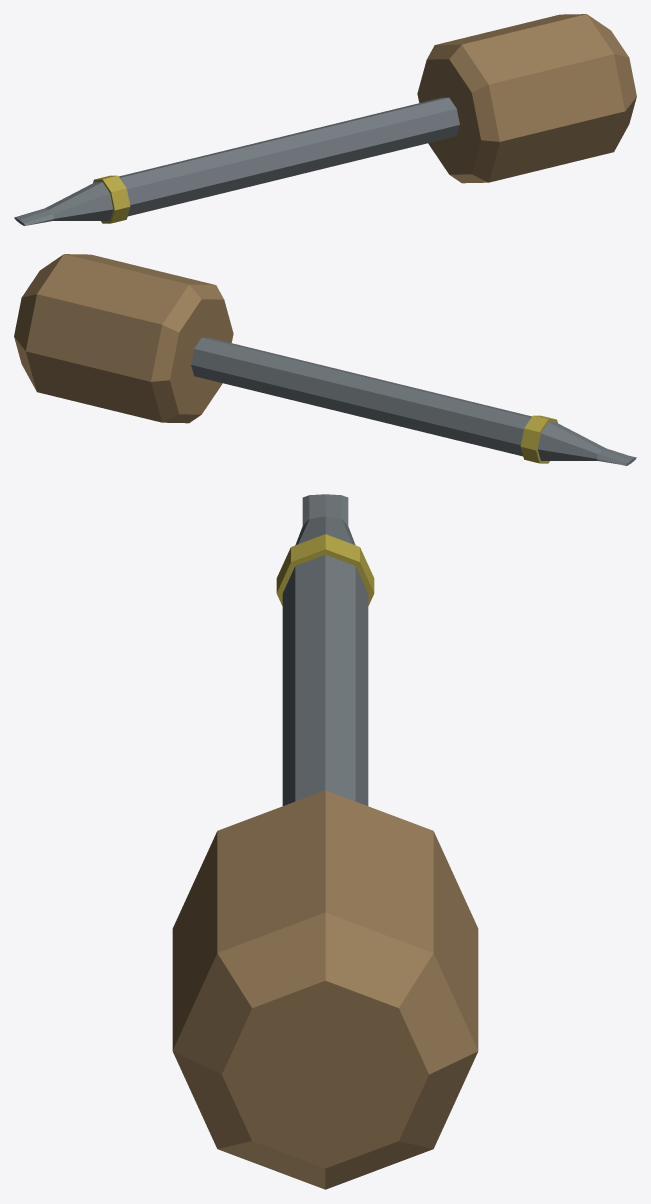
The model's file is ChaveFendaLowPoly.fbx.
The picture shows the model from 3 angles, top to bottom: view 1: azimuth 30°, elevation 25°; view 2: azimuth 150°, elevation 25°; view 3: azimuth 270°, elevation 25°; orthographic projection. The views are drawn at different scales.
Parts seen in each view (by area): view 1: Cylinder; view 2: Cylinder; view 3: Cylinder.
Boxes of the visible parts, x1=… form: Cylinder: x1=14, y1=14, x2=636, y2=225; Cylinder: x1=14, y1=254, x2=636, y2=465; Cylinder: x1=172, y1=494, x2=478, y2=1189.
Bounding box in the file's own units: 893 × 200 × 200.
